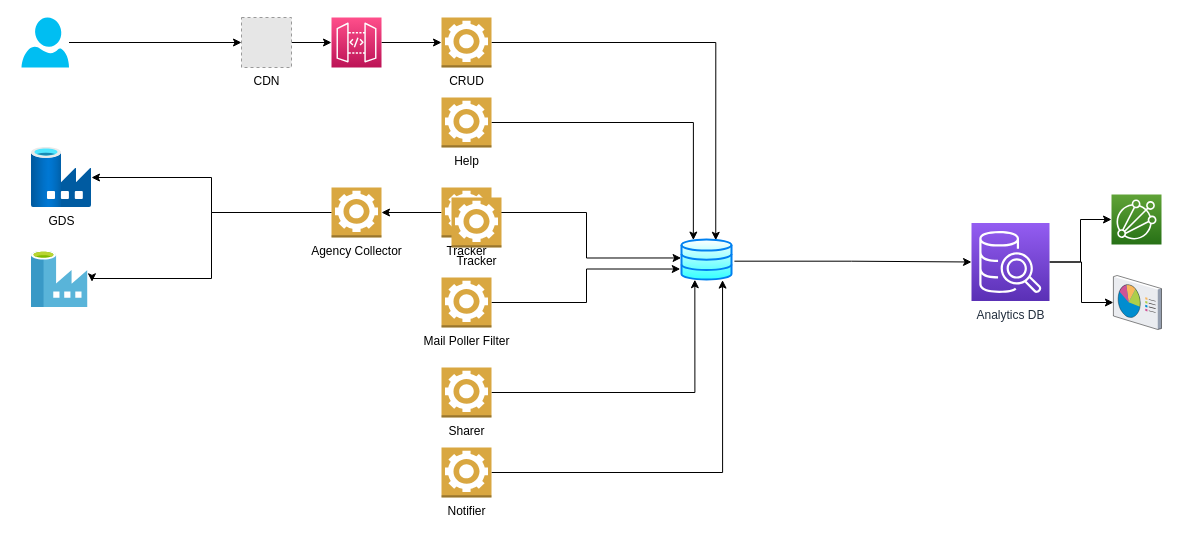
Some shapes in this 1179 by 536 pixel diagram are drawn without their labels. Grey dashed boxes stand in for pictures. Here are the shapes that lost their labels. From the top down, the centre of each, then its label:
point 44,42: User
point 356,42: API Gateway
point 1136,219: Analytics
point 59,278: Travel Agencies
point 1137,302: Reports
